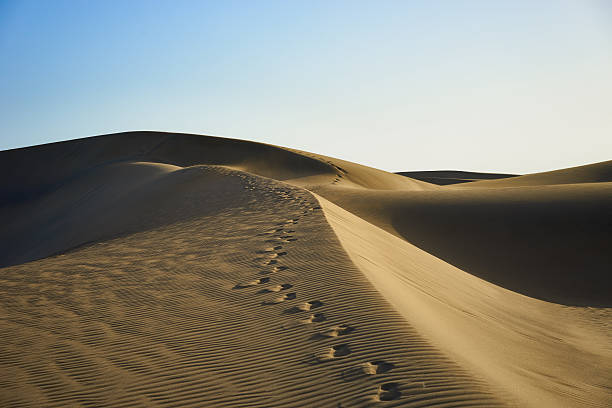human_footprint: (341, 360, 394, 380), (282, 312, 326, 328), (315, 344, 351, 361), (312, 324, 354, 338), (285, 300, 323, 313), (375, 382, 401, 400), (361, 360, 394, 374), (262, 292, 296, 304), (234, 277, 269, 288), (258, 283, 292, 293), (258, 263, 288, 274), (264, 234, 297, 244), (300, 312, 326, 323), (257, 251, 286, 260), (297, 300, 323, 310), (255, 245, 282, 253), (257, 227, 283, 235), (276, 235, 297, 242), (278, 218, 298, 225), (271, 265, 288, 272), (264, 237, 281, 243), (262, 259, 277, 265), (283, 237, 297, 241), (279, 234, 292, 238), (276, 251, 286, 256), (310, 205, 320, 210), (284, 229, 295, 233)
